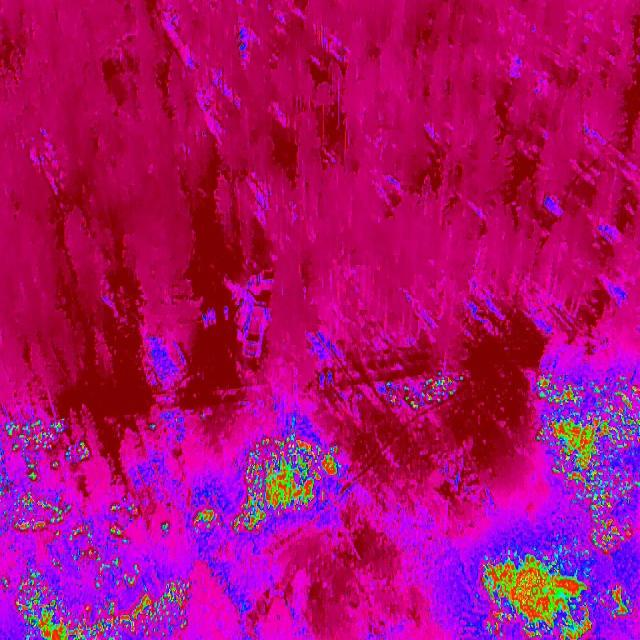fire: (16, 510, 194, 640), (535, 365, 640, 546), (469, 537, 640, 640), (224, 431, 347, 537), (0, 418, 86, 542), (387, 368, 463, 419), (196, 507, 216, 535)
